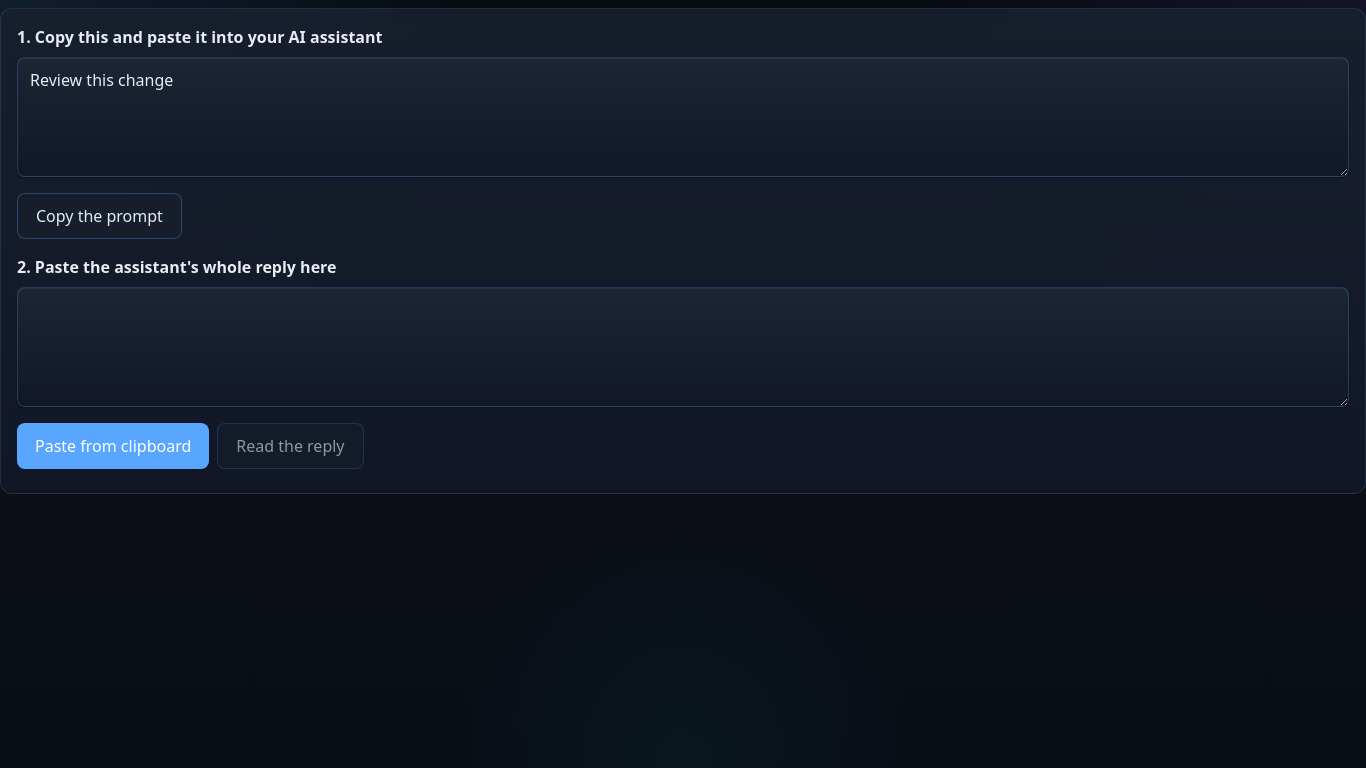
Scenario: PromptRound › shows the prompt, waits for a reply, then reports what the reader said
This screenshot has width=1366, height=768.
Expected: the text box showing "Review this change" is shown, [17, 57, 1349, 177]
Expected: the button "Copy the prompt" is shown, [17, 193, 182, 239]
Type "VERDICT: READY" into the text box labelled "2. Paste the assistant's whole reply here" at (683, 347), box [17, 287, 1349, 407]
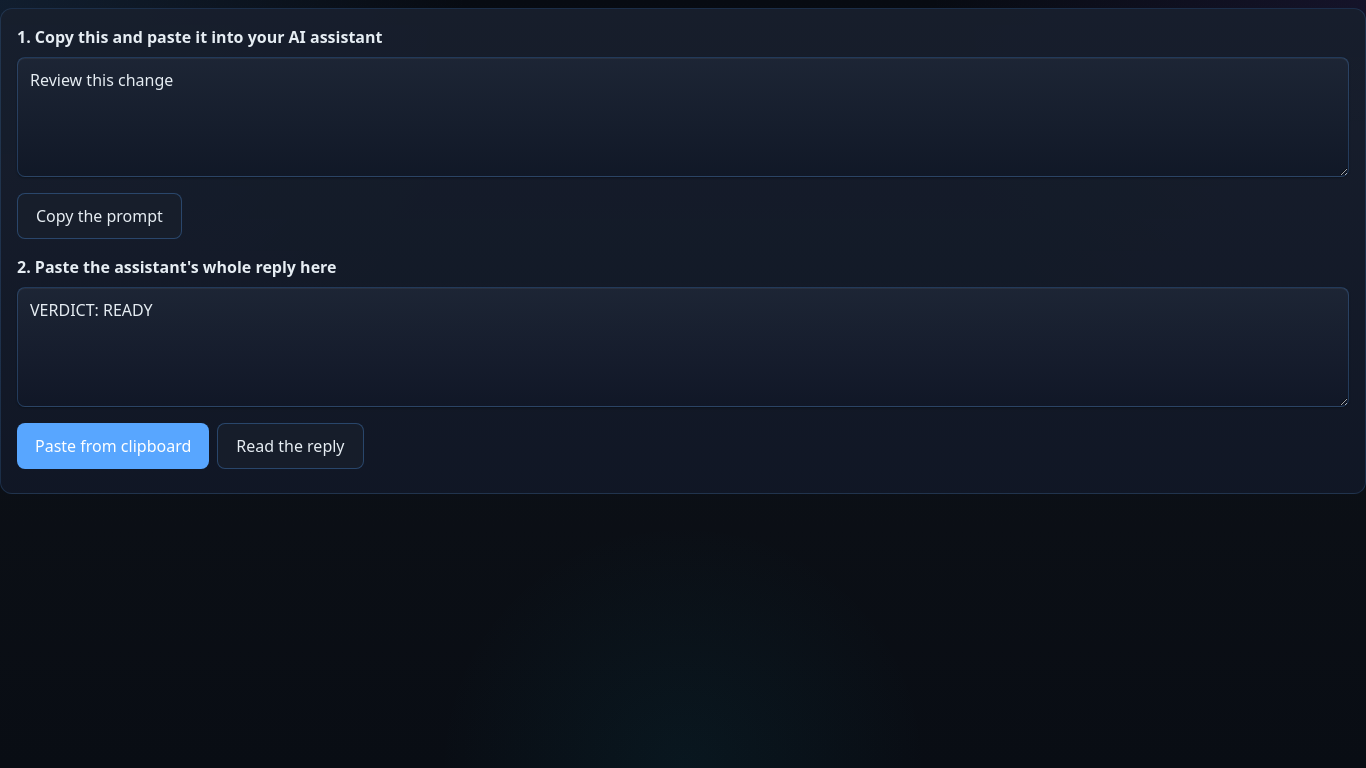
Click the button "Read the reply" at (290, 446), box [217, 423, 364, 469]
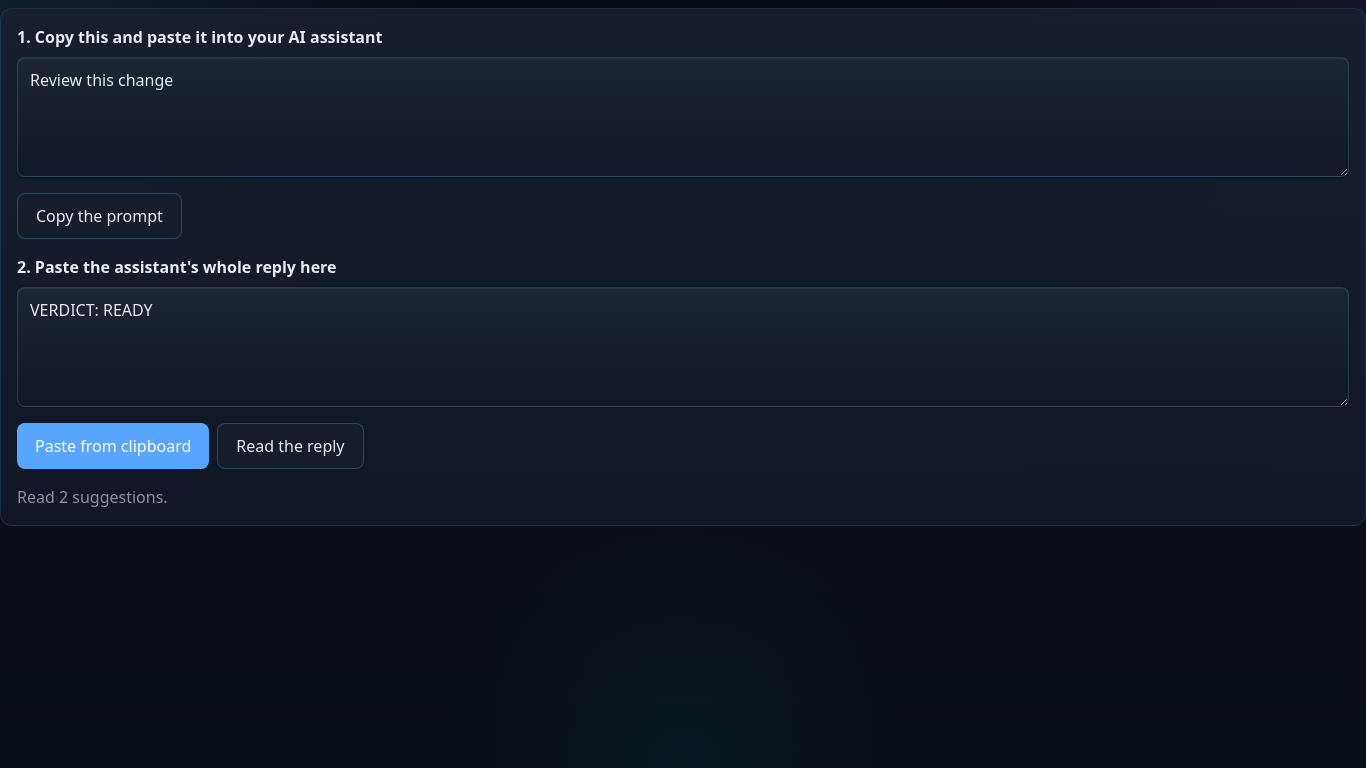
Expected: the message reads "Read 2 suggestions.", [17, 486, 168, 508]
